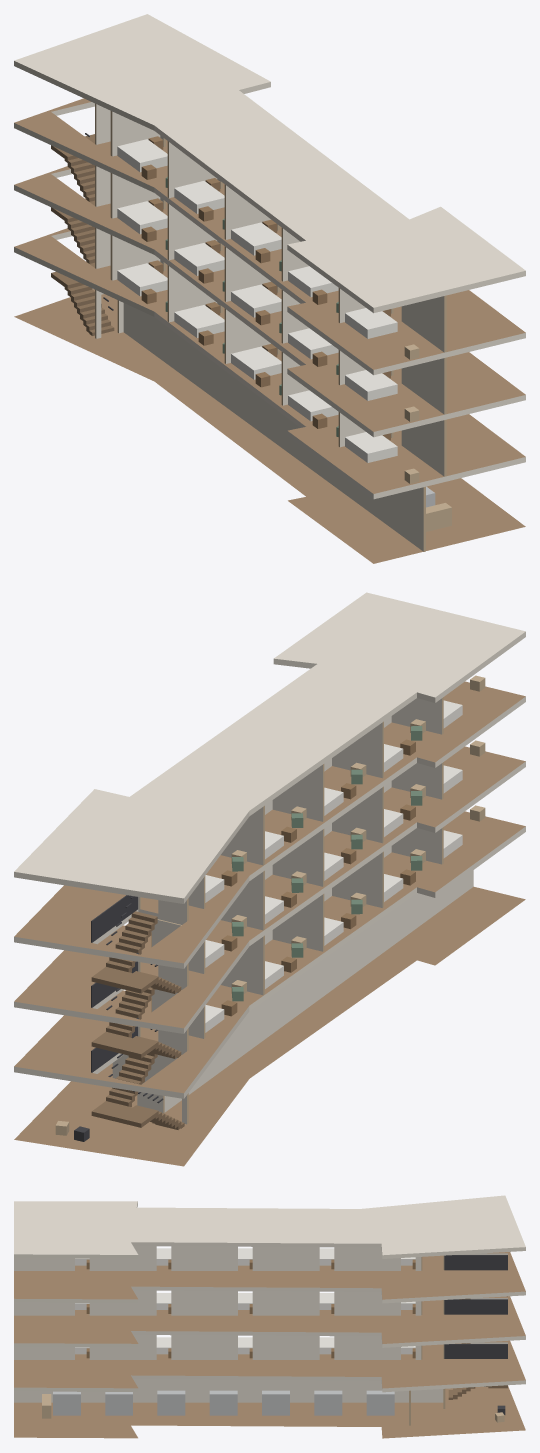
The model's file is interior.glb.
The picture shows the model from 3 angles, top to bottom: view 1: azimuth 30°, elevation 25°; view 2: azimuth 150°, elevation 25°; view 3: azimuth 270°, elevation 25°; orthographic projection. The views are drawn at different scales.
Parts seen in each view (by area): view 1: slabs, partitions, coarse-s1, coarse-s2, coarse-s3, stair, coarse-s0; view 2: slabs, partitions, stair, coarse-s3, coarse-s2, coarse-s1; view 3: slabs, partitions, coarse-s0, stair, coarse-s1, coarse-s3, coarse-s2.
Part boxes in pixels (x1,y1,x2,y2): slabs: (14,14,525,563); partitions: (95,103,446,551); coarse-s1: (117,260,419,483); coarse-s2: (117,198,419,421); coarse-s3: (117,136,419,359); stair: (51,133,114,335); coarse-s0: (426,486,451,531); slabs: (14,592,525,1166); partitions: (112,697,473,1124); stair: (91,895,184,1129); coarse-s3: (205,675,485,902); coarse-s2: (205,740,485,967); coarse-s1: (205,805,485,1032); slabs: (14,1195,525,1438); partitions: (14,1246,445,1425); coarse-s0: (42,1390,505,1422); stair: (444,1255,507,1399); coarse-s1: (75,1337,415,1358); coarse-s3: (75,1248,415,1269); coarse-s2: (75,1293,415,1313).
Size of the model in its own units: 8.66 by 12.4 by 31.34.
